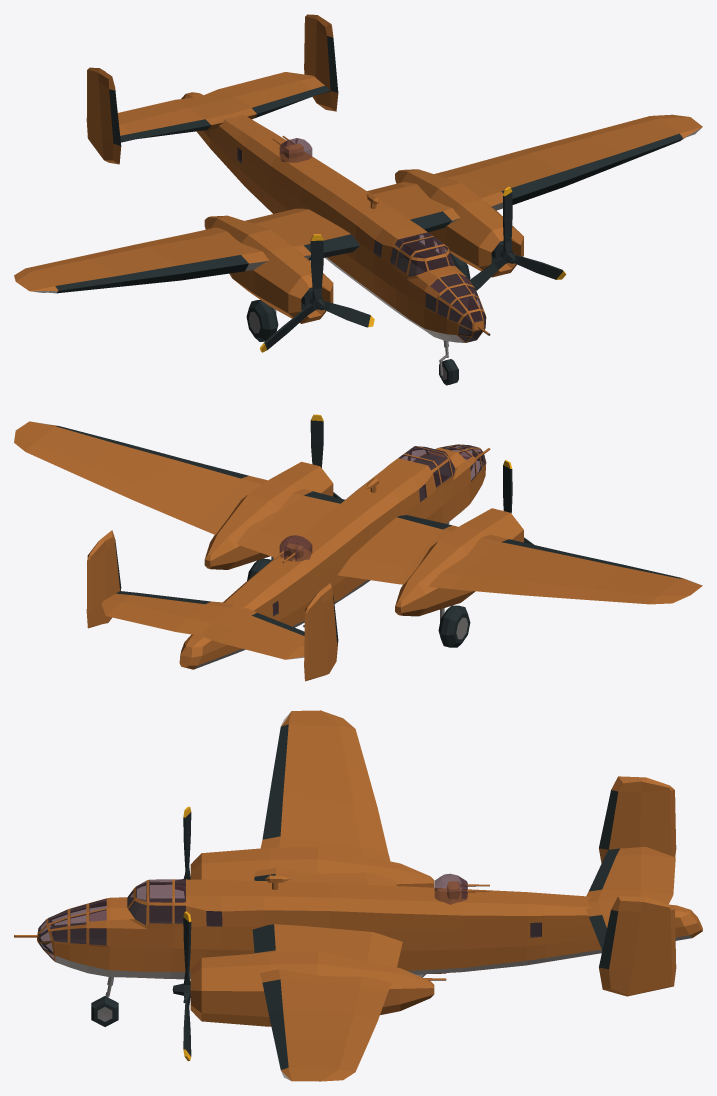
3 renders of one model, top to bottom at view 1: azimuth 30°, elevation 25°; view 2: azimuth 150°, elevation 25°; view 3: azimuth 270°, elevation 25°, orthographic. The views are drawn at different scales.
Parts seen in each view (by area): view 1: B-25B-body, B-25B-propeller_R, B-25B-propeller_L, B-25B-wheel_R; view 2: B-25B-body, B-25B-wheel_R, B-25B-propeller_L, B-25B-propeller_R; view 3: B-25B-body, B-25B-propeller_L, B-25B-wheel_F, B-25B-propeller_R.
Part boxes in pixels (x1,y1,x2,y2): B-25B-body: (14, 14, 702, 342); B-25B-propeller_R: (260, 234, 374, 352); B-25B-propeller_L: (469, 187, 566, 293); B-25B-wheel_R: (246, 300, 278, 341); B-25B-body: (14, 421, 702, 681); B-25B-wheel_R: (438, 605, 470, 647); B-25B-propeller_L: (310, 414, 341, 498); B-25B-propeller_R: (503, 460, 533, 544); B-25B-body: (14, 710, 702, 1081); B-25B-propeller_L: (172, 911, 191, 1061); B-25B-wheel_F: (91, 996, 118, 1026); B-25B-propeller_R: (175, 806, 191, 897).
Size of the model in its own units: 21.29 by 5.07 by 16.71.
